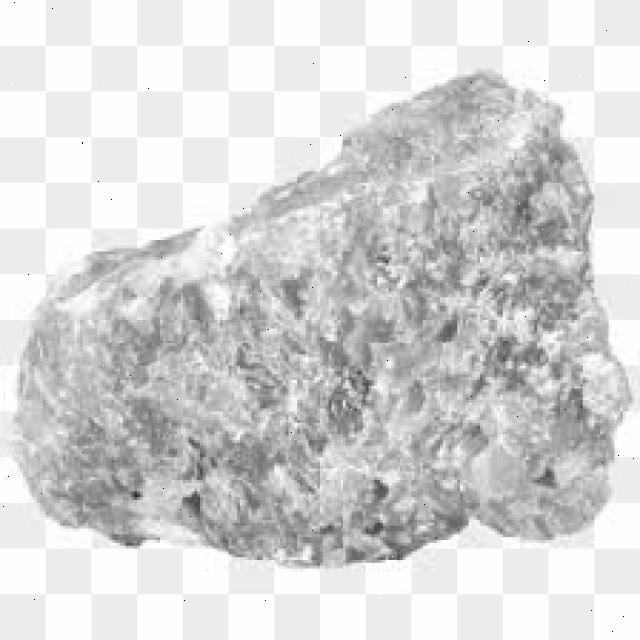Metamorphic: (14, 74, 623, 569)
